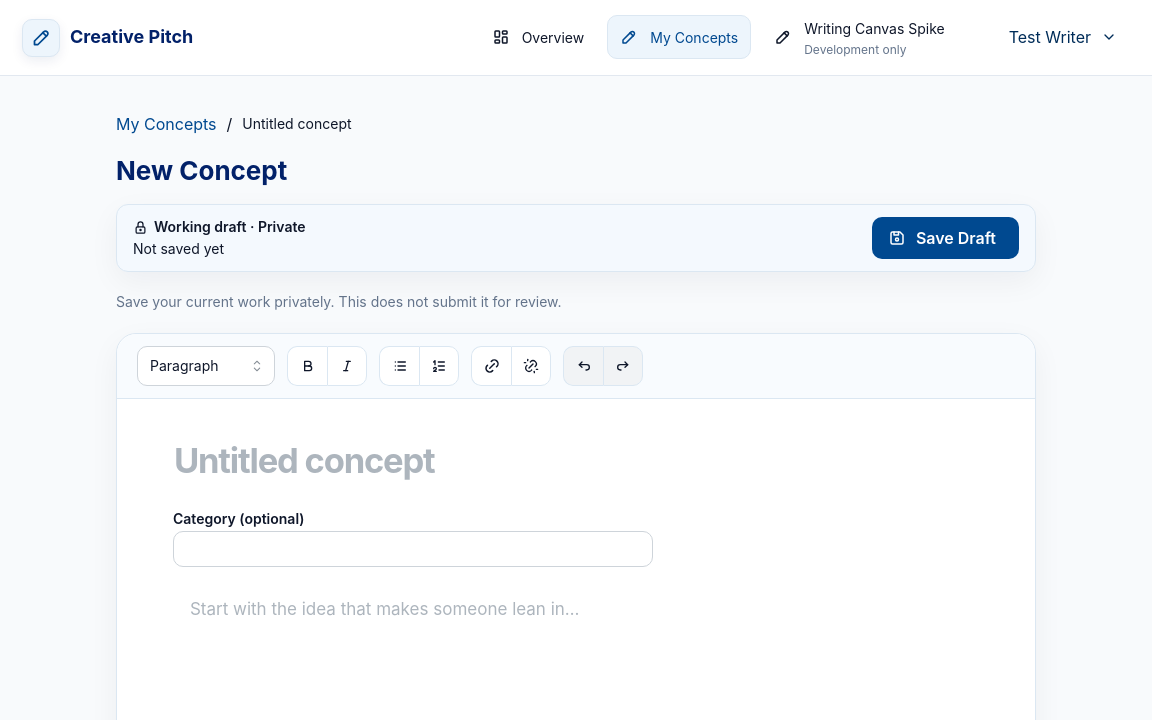
Test: does not promote a departed editor when its delayed create resolves
The image size is (1152, 720).
Type "Leaving" into the text box named "Concept title" at (576, 460), box [173,439,979,482]
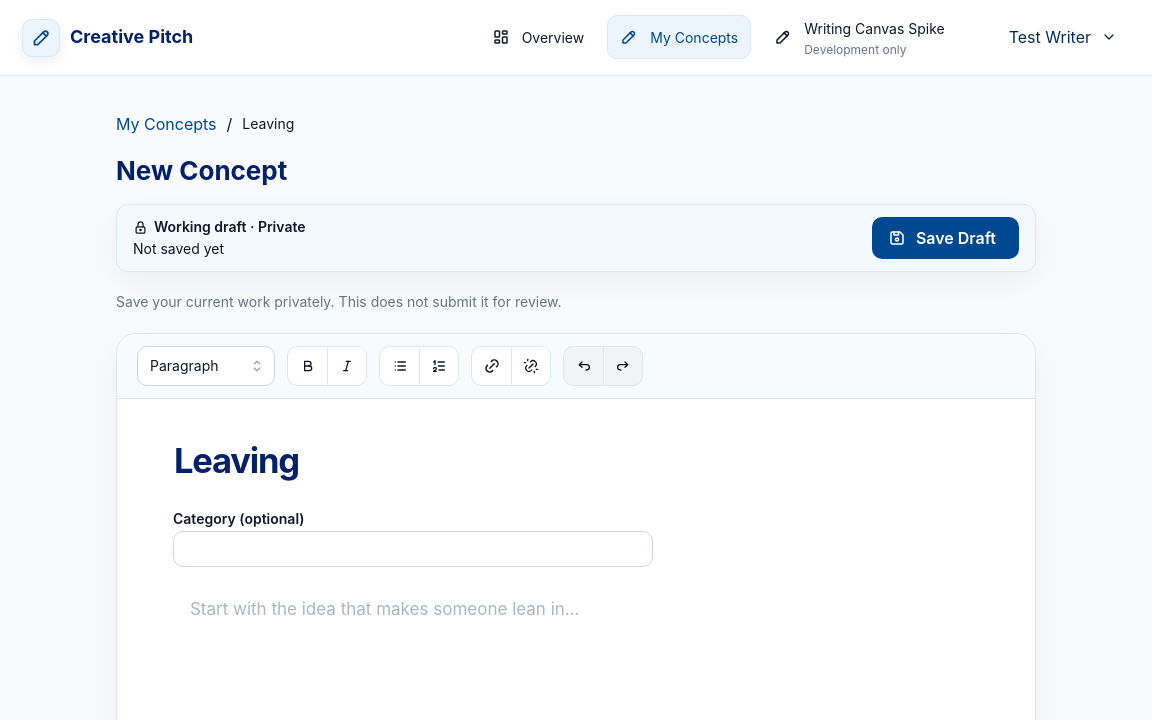
Click the button "Save Draft" at (946, 238), box [872,217,1019,259]
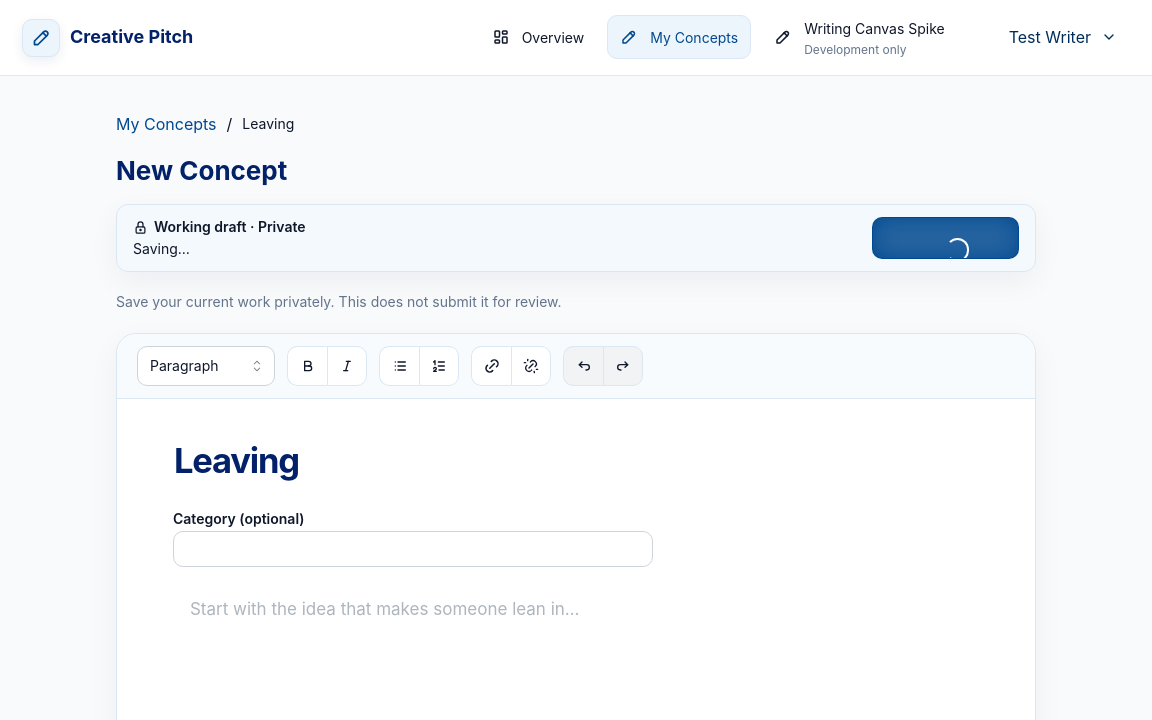
Click the link "My Concepts" next to "Leaving" at (166, 124), box [116,112,216,137]
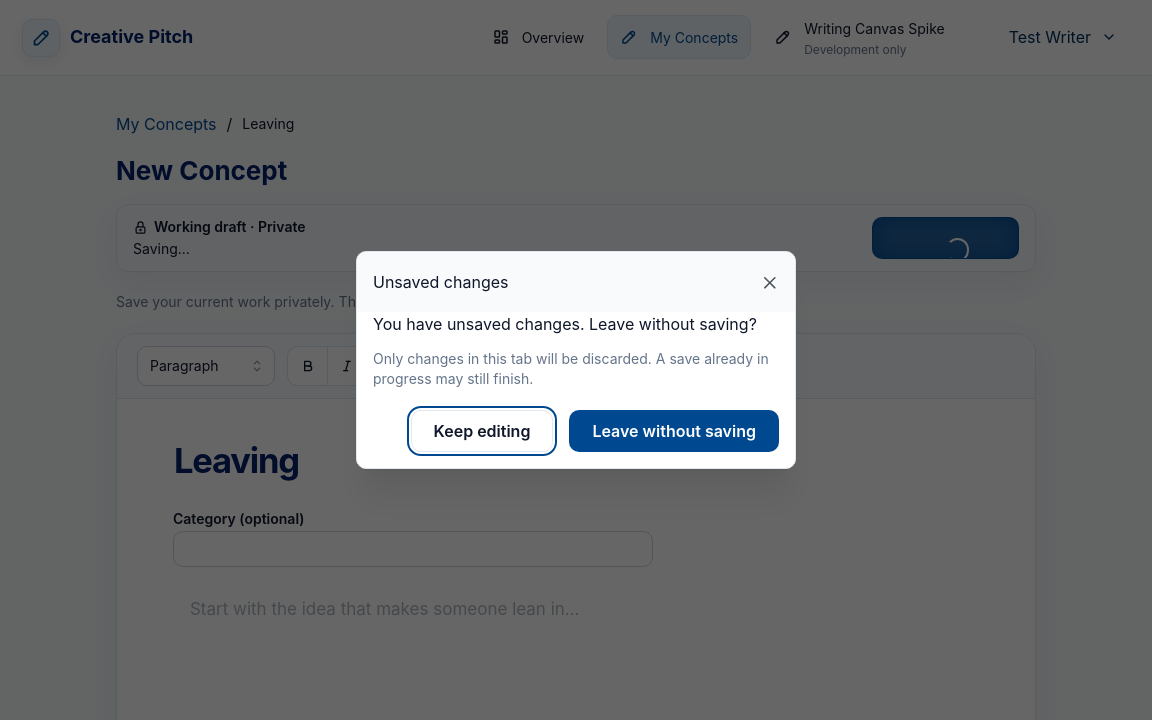
Click the button "Leave without saving" at (674, 431), box [569,410,779,452]
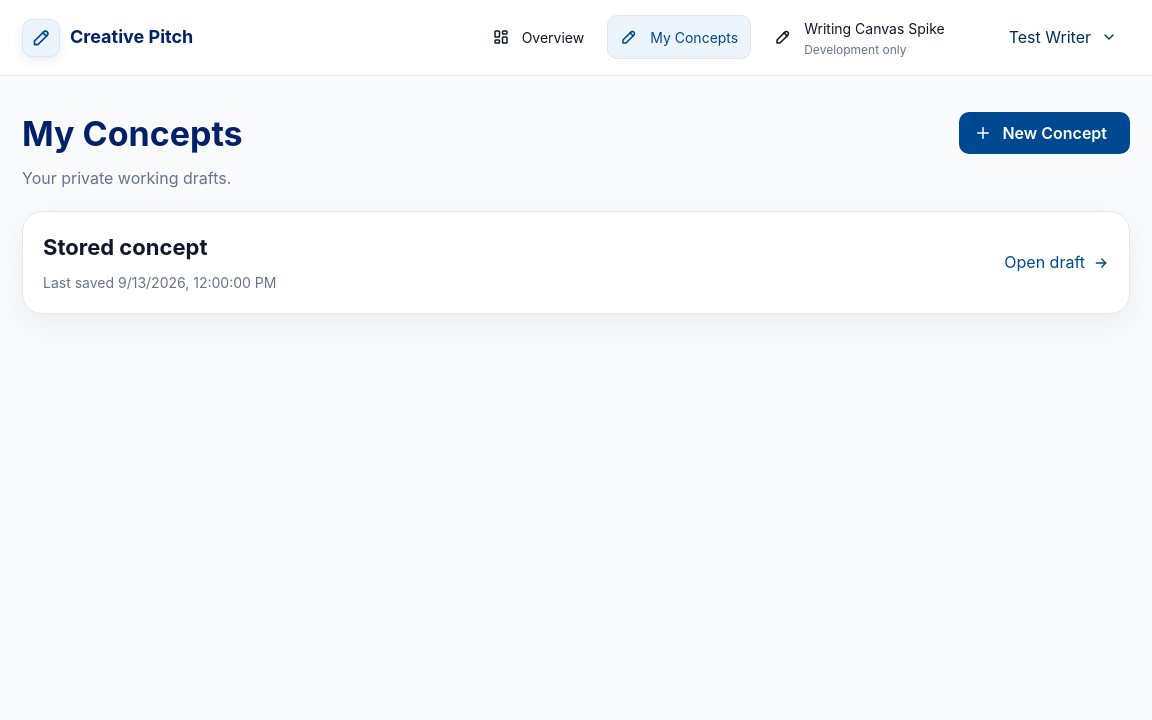
Result: the heading "My Concepts" is shown at [22,112,243,156]
